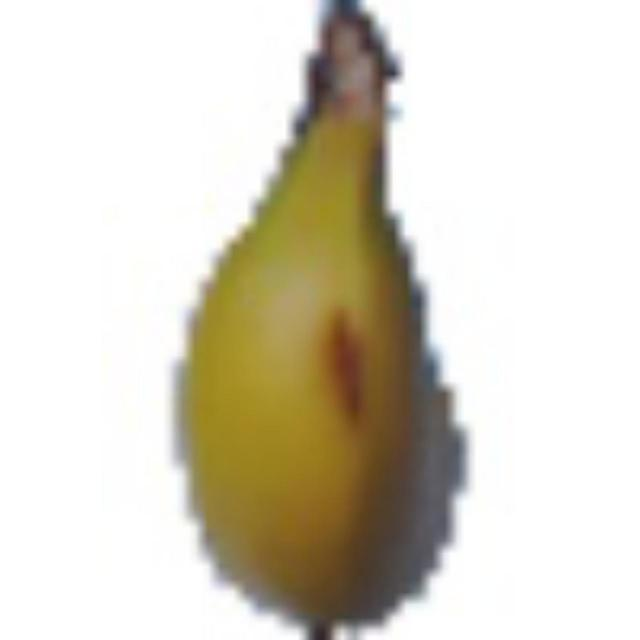banana: (166, 0, 486, 634)
